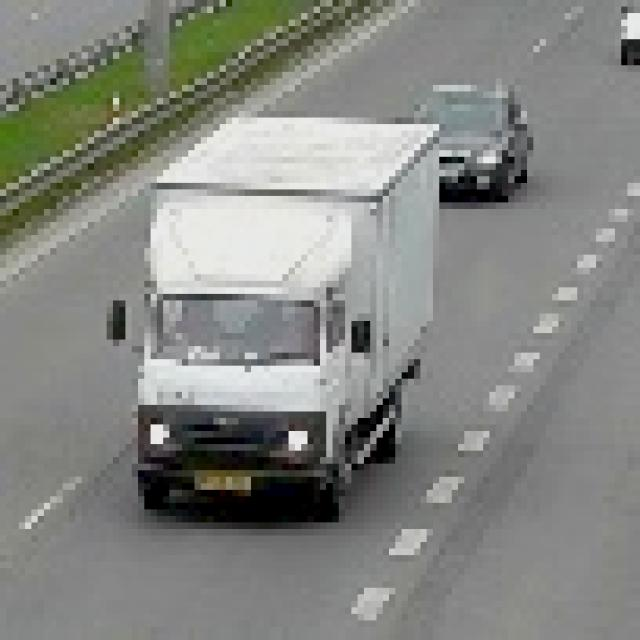truck: (101, 112, 434, 510)
